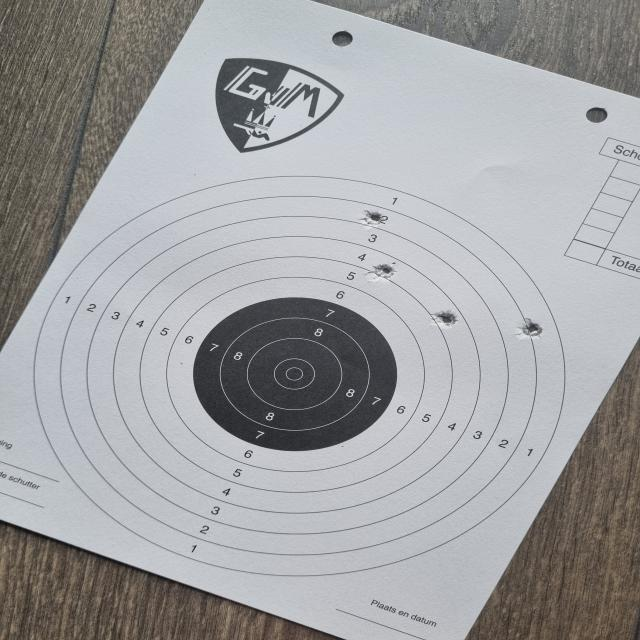2: (513, 319, 542, 339)
3: (359, 210, 382, 227)
5: (429, 311, 459, 327), (364, 264, 394, 278)
Target: (33, 174, 565, 575)
black_contour: (193, 297, 397, 452)
